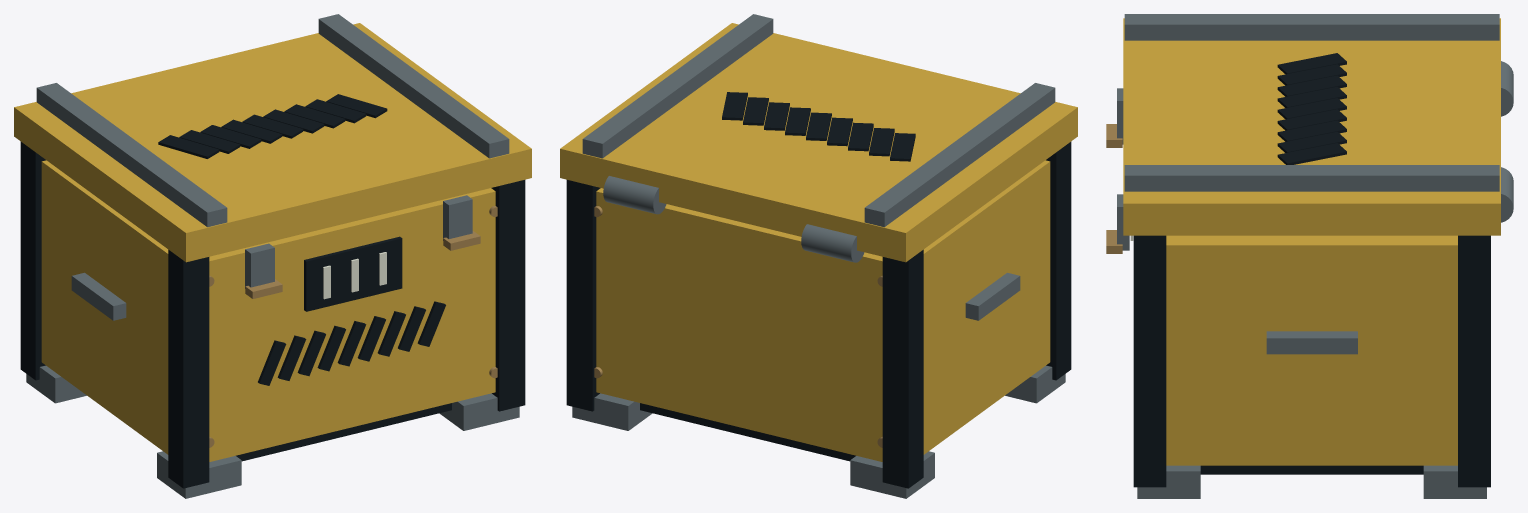
File: FSA_WORLD_Airdrop.glb
3 renders of one model, left to right at view 1: azimuth 30°, elevation 25°; view 2: azimuth 150°, elevation 25°; view 3: azimuth 270°, elevation 25°, orthographic. The views are drawn at different scales.
Parts seen in each view (by area): view 1: Lid, FrontWall, SideWall_L, Corner_LF, Corner_RF, LidRail_R, LidRail_L, Corner_LB, Label, Foot_LF, Foot_RF, Floor (+22 smaller); view 2: RearWall, Lid, SideWall_L, Corner_LB, Corner_RB, LidRail_R, LidRail_L, Corner_LF, Foot_LB, Foot_RB, Floor, Hinge_L (+12 smaller); view 3: SideWall_R, Lid, LidRail_L, LidRail_R, Corner_RF, Corner_RB, Floor, SideHandle_R, Foot_RF, Foot_RB, TopStripe_8, TopStripe_2 (+10 smaller).
Part boxes in pixels (x1=…): Lid: x1=14, y1=23, x2=531, y2=262; FrontWall: x1=209, y1=188, x2=495, y2=461; SideWall_L: x1=41, y1=160, x2=168, y2=454; Corner_LF: x1=168, y1=249, x2=209, y2=488; Corner_RF: x1=491, y1=180, x2=525, y2=411; LidRail_R: x1=318, y1=14, x2=509, y2=158; LidRail_L: x1=36, y1=83, x2=227, y2=227; Corner_LB: x1=20, y1=141, x2=45, y2=380; Label: x1=304, y1=236, x2=402, y2=311; Foot_LF: x1=157, y1=451, x2=241, y2=498; Foot_RF: x1=439, y1=393, x2=519, y2=430; Floor: x1=236, y1=403, x2=451, y2=461; RearWall: x1=596, y1=188, x2=882, y2=461; Lid: x1=560, y1=23, x2=1077, y2=262; SideWall_L: x1=923, y1=160, x2=1050, y2=454; Corner_LB: x1=882, y1=249, x2=923, y2=488; Corner_RB: x1=566, y1=180, x2=600, y2=411; LidRail_R: x1=582, y1=14, x2=773, y2=158; LidRail_L: x1=864, y1=83, x2=1055, y2=227; Corner_LF: x1=1046, y1=141, x2=1071, y2=380; Foot_LB: x1=850, y1=451, x2=934, y2=498; Foot_RB: x1=572, y1=393, x2=652, y2=430; Floor: x1=640, y1=403, x2=855, y2=461; Hinge_L: x1=801, y1=224, x2=864, y2=262; SideWall_R: x1=1166, y1=235, x2=1457, y2=465; Lid: x1=1123, y1=18, x2=1500, y2=235; LidRail_L: x1=1124, y1=14, x2=1499, y2=40; LidRail_R: x1=1124, y1=165, x2=1499, y2=191; Corner_RF: x1=1133, y1=235, x2=1166, y2=487; Corner_RB: x1=1458, y1=235, x2=1490, y2=487; Floor: x1=1200, y1=465, x2=1423, y2=474; SideHandle_R: x1=1266, y1=331, x2=1357, y2=354; Foot_RF: x1=1137, y1=465, x2=1200, y2=498; Foot_RB: x1=1423, y1=465, x2=1486, y2=498; TopStripe_8: x1=1277, y1=143, x2=1346, y2=164; TopStripe_2: x1=1277, y1=75, x2=1346, y2=96.
Bounding box in the file's own units: 1.8 × 1.37 × 1.61.
